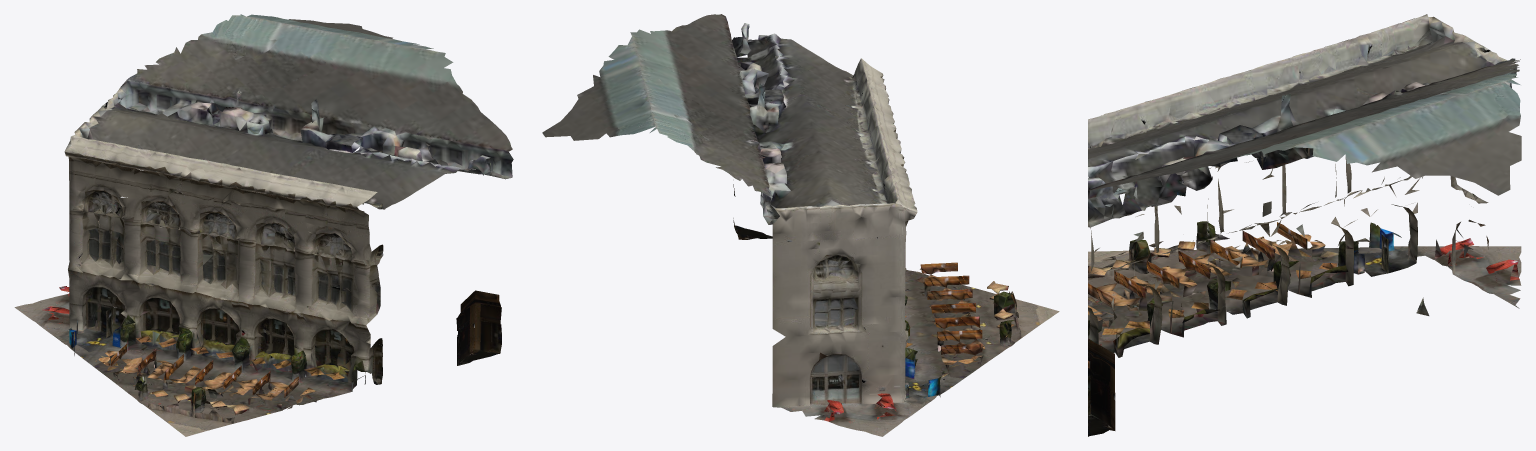
3 views of the same model, side by side, from view 1: azimuth 30°, elevation 25°; view 2: azimuth 150°, elevation 25°; view 3: azimuth 270°, elevation 25° (orthographic). The views are drawn at different scales.
Size of the model in its own units: 27.23 by 18.86 by 23.87.
1 material, 1 textured.
